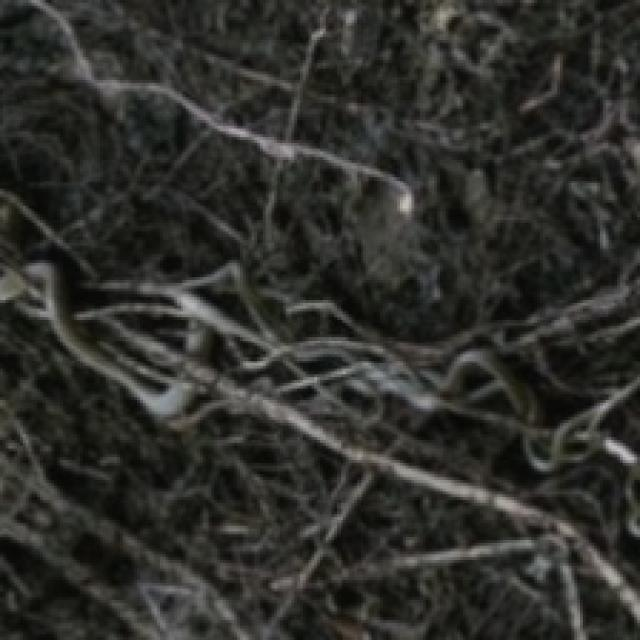paradise tree snake: (23, 260, 194, 420)
